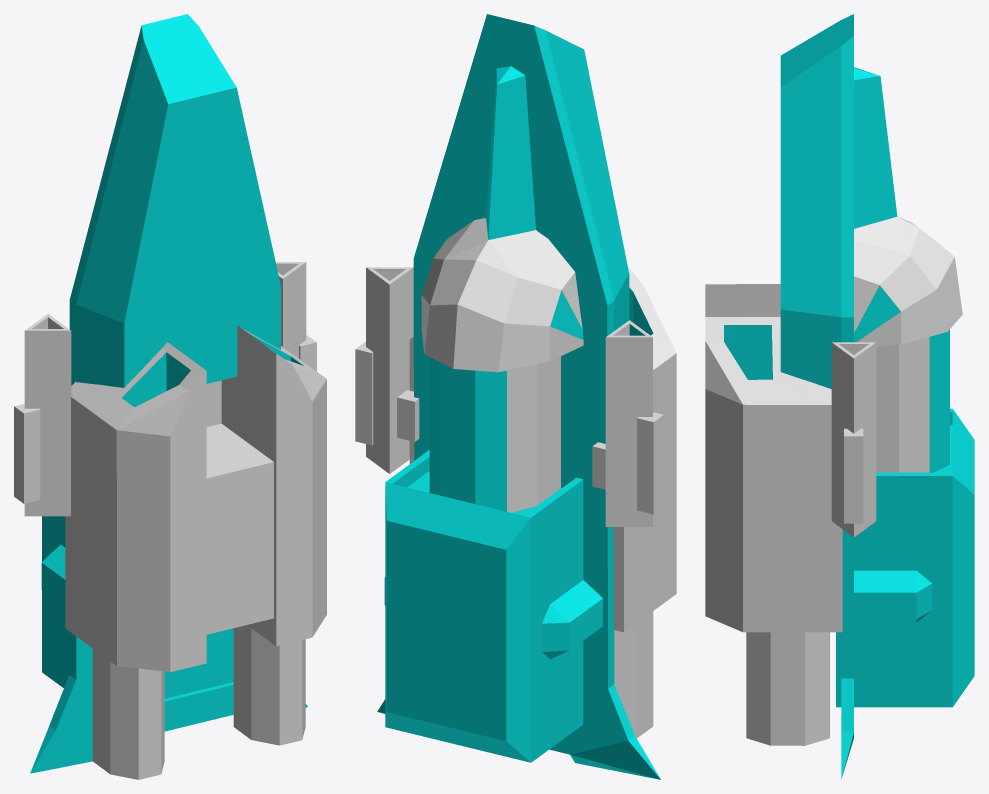
The model's file is Heleur_LHT.fbx.
3 views of the same model, side by side, from view 1: azimuth 30°, elevation 25°; view 2: azimuth 150°, elevation 25°; view 3: azimuth 270°, elevation 25° (orthographic). The views are drawn at different scales.
Parts seen in each view (by area): view 1: polySurface199; view 2: polySurface199; view 3: polySurface199.
Boxes of the visible parts, x1,y1,x2,y2 form: polySurface199: (14, 14, 326, 779); polySurface199: (355, 14, 676, 779); polySurface199: (705, 14, 974, 779).
Bounding box in the file's own units: 12.56 × 29.48 × 10.38.
